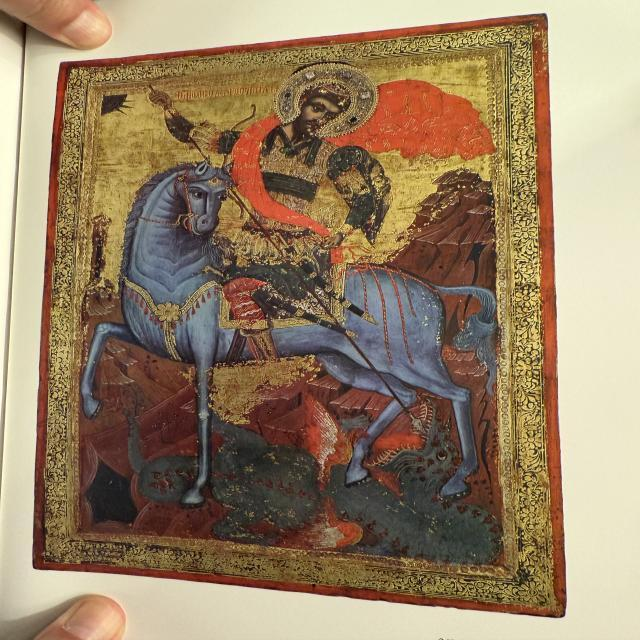aura: (277, 64, 377, 136)
spear: (150, 92, 428, 443)
st_george: (79, 65, 509, 564)
